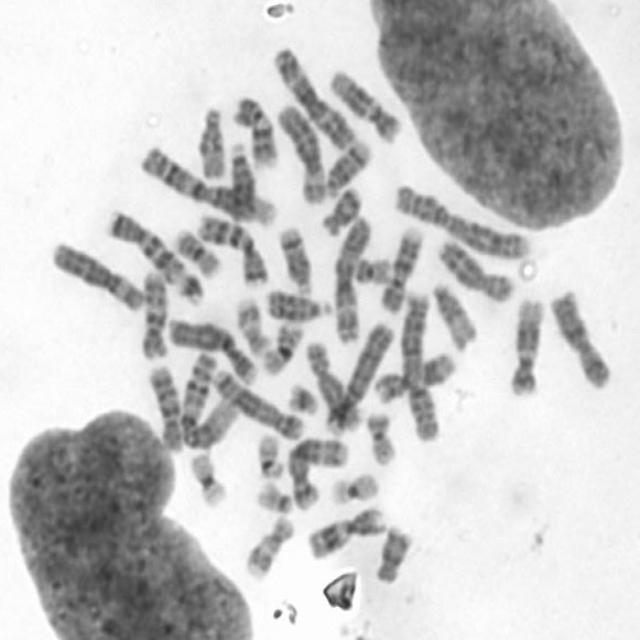A1: (136, 146, 276, 230), (180, 350, 250, 454)
A2: (393, 182, 531, 262), (398, 291, 442, 442)
A3: (272, 47, 357, 152), (334, 214, 373, 346)
B4: (324, 321, 396, 435), (163, 315, 259, 387)
B5: (212, 368, 308, 442), (285, 435, 348, 510)
C10: (148, 363, 182, 452), (140, 266, 171, 361)
C11: (372, 350, 456, 406), (306, 505, 388, 561)
C12: (328, 70, 404, 147), (506, 298, 548, 396)
C6: (51, 242, 144, 315), (275, 105, 326, 205)
C7: (107, 208, 186, 287), (193, 214, 270, 290)
C8: (302, 340, 359, 432), (436, 240, 516, 303)
C9: (378, 224, 423, 315), (231, 94, 278, 172)
D13: (264, 287, 334, 325), (228, 142, 258, 223)
D14: (275, 223, 315, 297), (324, 140, 369, 200)
D15: (430, 283, 478, 353), (197, 105, 226, 181)
E16: (171, 224, 221, 282), (259, 322, 305, 375)
E17: (242, 513, 298, 580), (235, 297, 272, 360)
E18: (374, 524, 414, 583), (320, 188, 362, 238)
F19: (189, 452, 228, 508), (327, 470, 381, 508)
F20: (364, 408, 396, 468), (352, 258, 396, 288)
G21: (286, 382, 320, 417), (176, 270, 205, 308)
G22: (252, 432, 286, 480), (251, 482, 294, 515)
X: (548, 287, 612, 391)
